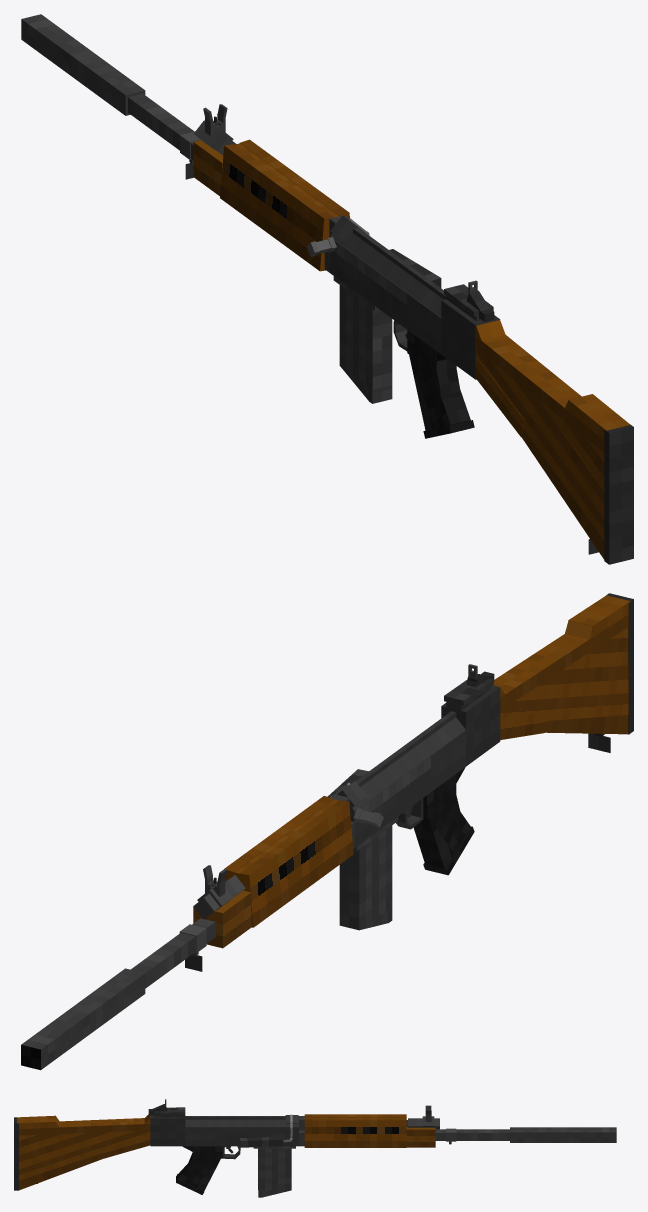
File: fn_fal.glb
The picture shows the model from 3 angles, top to bottom: view 1: azimuth 30°, elevation 25°; view 2: azimuth 150°, elevation 25°; view 3: azimuth 270°, elevation 25°; orthographic projection. The views are drawn at different scales.
Parts seen in each view (by area): view 1: main_12, main_11, mag_2, main_14, main_26, main_30, main_31, main_42, main_17, main_9, main_32, main_23 (+8 smaller); view 2: main_12, main_11, mag_2, main_14, main_30, main_31, main_17, main_9, main_7, main_23, main_42, main_32 (+11 smaller); view 3: main_6, main_14, main_11, main_30, mag_2, main_31, main_17, main_42, main_32, main_9, main_23, main_37 (+15 smaller).
Part boxes in pixels (x1,y1,x2,y2): main_12: (220, 144, 333, 271); main_11: (21, 14, 145, 115); mag_2: (339, 285, 392, 389); main_14: (330, 237, 441, 354); main_26: (604, 424, 633, 564); main_30: (476, 334, 604, 452); main_31: (476, 349, 604, 540); main_42: (407, 339, 470, 428); main_17: (330, 233, 443, 317); main_9: (128, 93, 194, 160); main_32: (492, 362, 604, 518); main_23: (441, 299, 469, 371); main_12: (239, 800, 353, 927); main_11: (21, 968, 145, 1070); mag_2: (339, 825, 392, 930); main_14: (350, 730, 465, 847); main_30: (493, 614, 628, 710); main_31: (500, 693, 628, 720); main_17: (349, 717, 465, 811); main_9: (131, 918, 215, 988); main_7: (193, 890, 251, 948); main_23: (441, 693, 490, 766); main_42: (423, 785, 470, 853); main_32: (515, 679, 628, 701); main_6: (304, 1118, 406, 1147); main_14: (185, 1127, 298, 1146); main_11: (510, 1127, 616, 1142); main_30: (19, 1118, 150, 1135); mag_2: (258, 1148, 291, 1190); main_31: (19, 1130, 150, 1180); main_17: (185, 1119, 298, 1127); main_42: (178, 1146, 222, 1186); main_32: (19, 1131, 134, 1169); main_9: (435, 1129, 509, 1140); main_23: (160, 1117, 185, 1146); main_37: (19, 1153, 103, 1190).
Bounding box in the file's own units: 0.2408 × 0.5615 × 3.32.
1 material, 1 textured.
